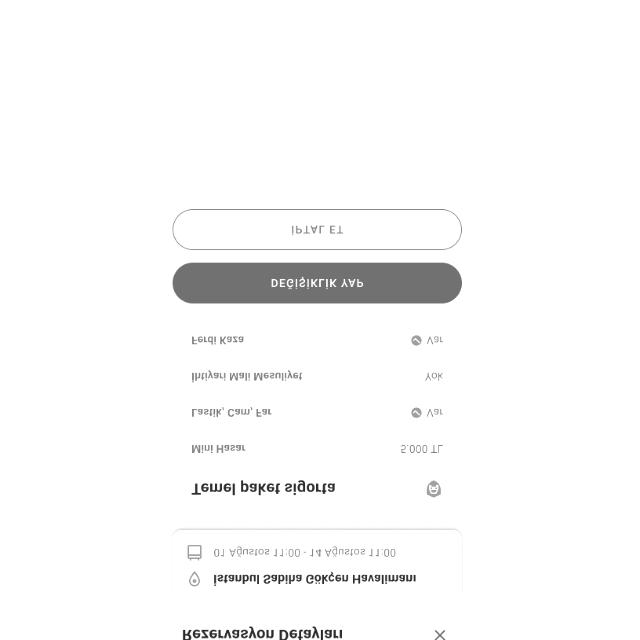QLabel: (209, 570, 419, 588), (210, 544, 398, 560), (189, 480, 335, 496), (178, 626, 344, 640), (188, 371, 304, 383), (270, 278, 364, 290), (188, 407, 274, 418), (289, 222, 349, 236), (188, 444, 248, 454), (190, 336, 246, 346), (400, 444, 444, 454), (426, 408, 444, 418), (426, 372, 444, 382), (426, 336, 444, 346)
VBtn: (173, 208, 463, 250), (172, 262, 464, 302)
VCard: (171, 320, 465, 520), (172, 530, 464, 602)
VDivider: (182, 390, 458, 398), (180, 463, 458, 469), (181, 427, 457, 433), (182, 355, 456, 361)
VIcon: (427, 622, 453, 640), (185, 544, 203, 562), (426, 480, 442, 498), (188, 571, 200, 587), (412, 408, 422, 418), (412, 336, 422, 346)
